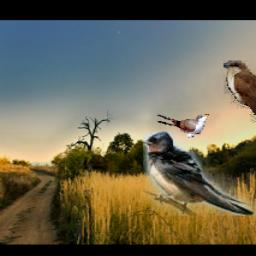Cuckoo: (224, 60, 256, 157), (159, 113, 210, 138)
Swallow: (143, 132, 256, 216)
